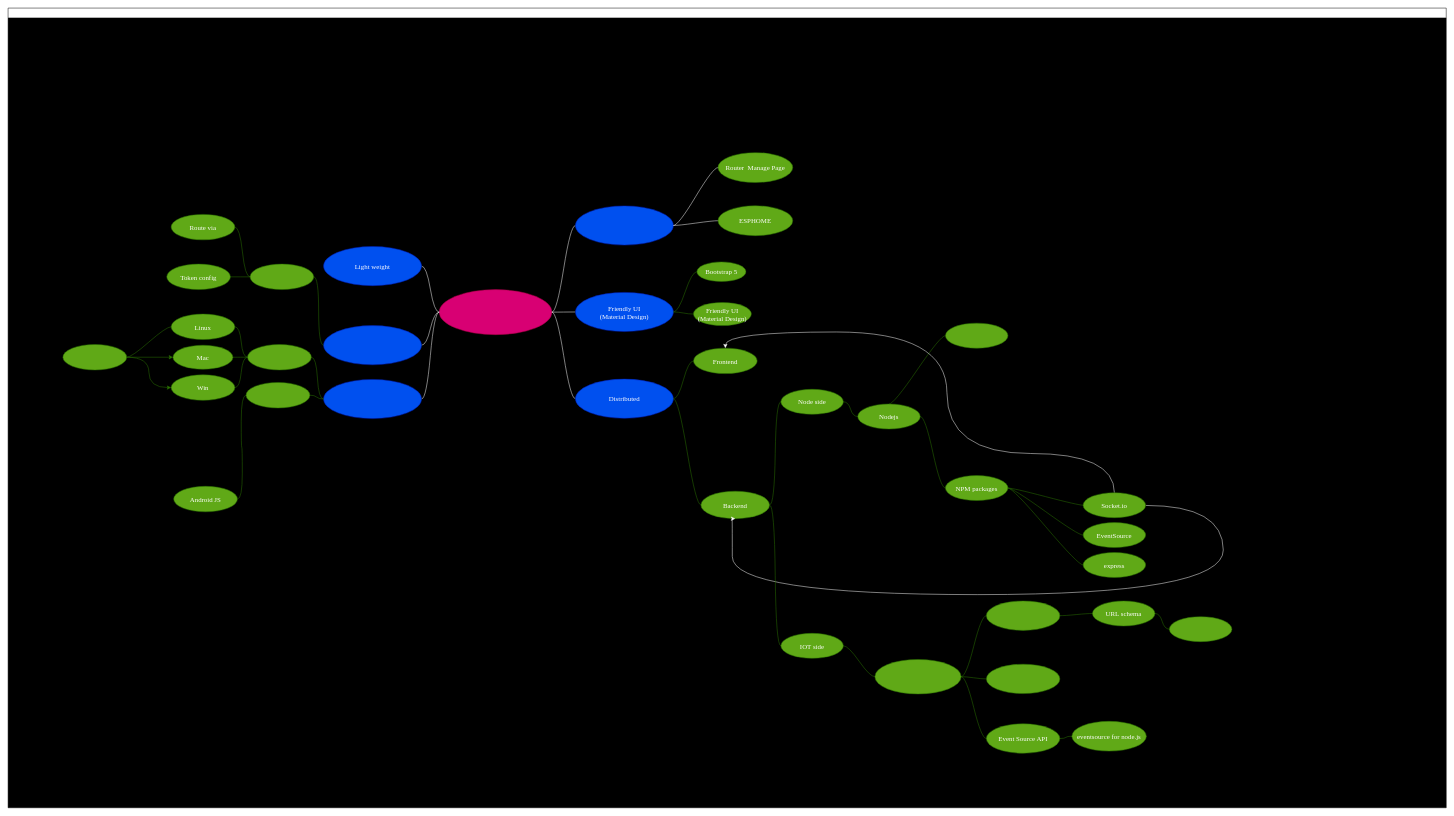
Some shapes in this 1454 by 816 pixel diagram are drawn without their labels. The shapes that lost their labels are listed below. From the top down, each one's centre as x and y in pixels, then its label:
pixel 624 225: Compatible with several IOT platform
pixel 282 277: Zerotier
pixel 495 312: ESPHome Web Controller
pixel 372 345: Cross region networking
pixel 976 335: Self Define Modules
pixel 94 357: PC
pixel 279 357: Web Frontend
pixel 278 395: Android
pixel 372 399: Cross Platform
pixel 1023 615: REST API
pixel 1200 629: POST
pixel 917 676: ESPHOME Web Server API
pixel 1023 679: IOT Module Eventhandler
